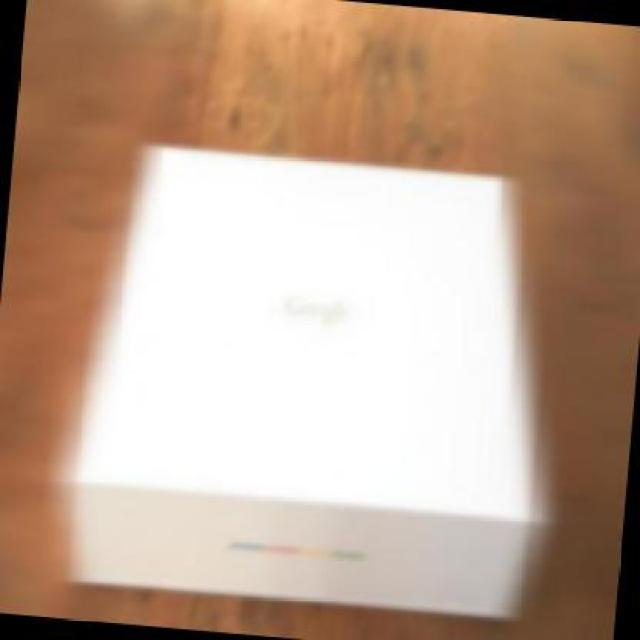box: (69, 124, 578, 640)
